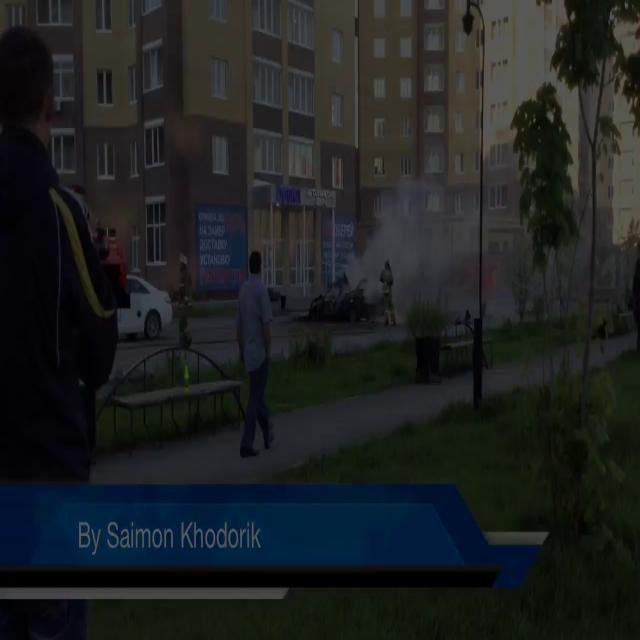Smoke: (354, 156, 524, 312)
